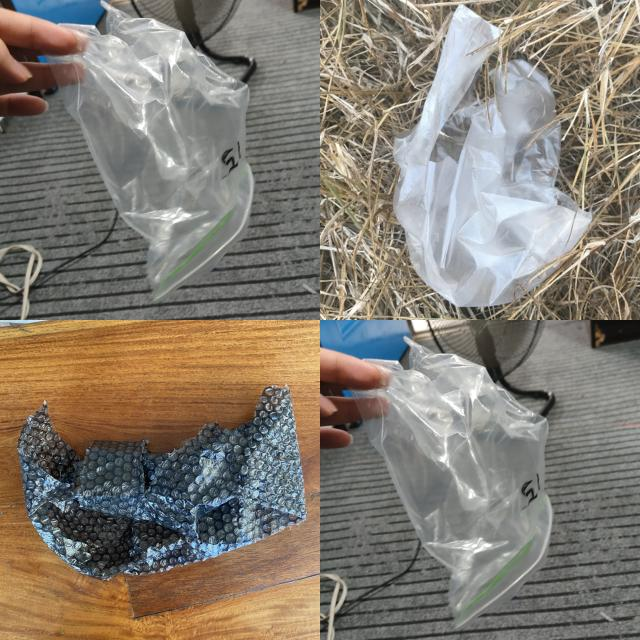Single-layer Plastic: (49, 4, 254, 299), (394, 5, 591, 306), (356, 339, 552, 627), (18, 385, 306, 580)
